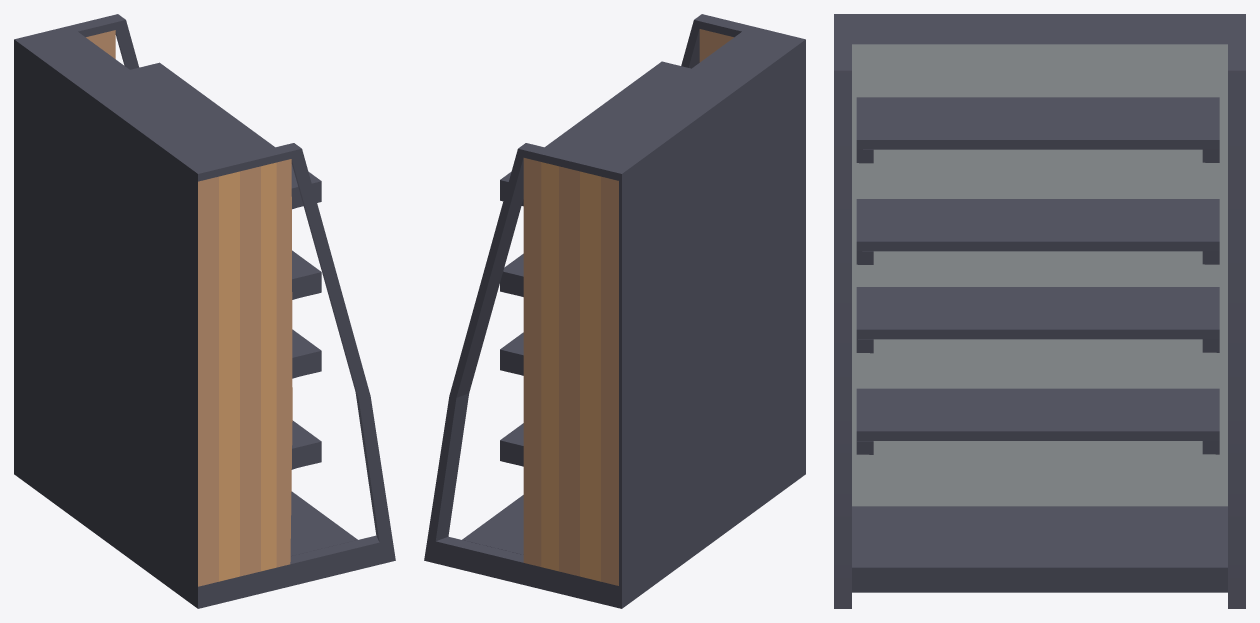
File: P_armoire_basique_v2.fbx
3 renders of one model, left to right at view 1: azimuth 30°, elevation 25°; view 2: azimuth 150°, elevation 25°; view 3: azimuth 270°, elevation 25°, orthographic. The views are drawn at different scales.
Parts seen in each view (by area): view 1: Box002; view 2: Box002; view 3: Box002.
Boxes of the visible parts, x1,y1,x2,y2 form: Box002: (14,14,395,608); Box002: (424,14,805,608); Box002: (834,14,1245,608).
Bounding box in the file's own units: 34.66 × 72.83 × 55.85.
